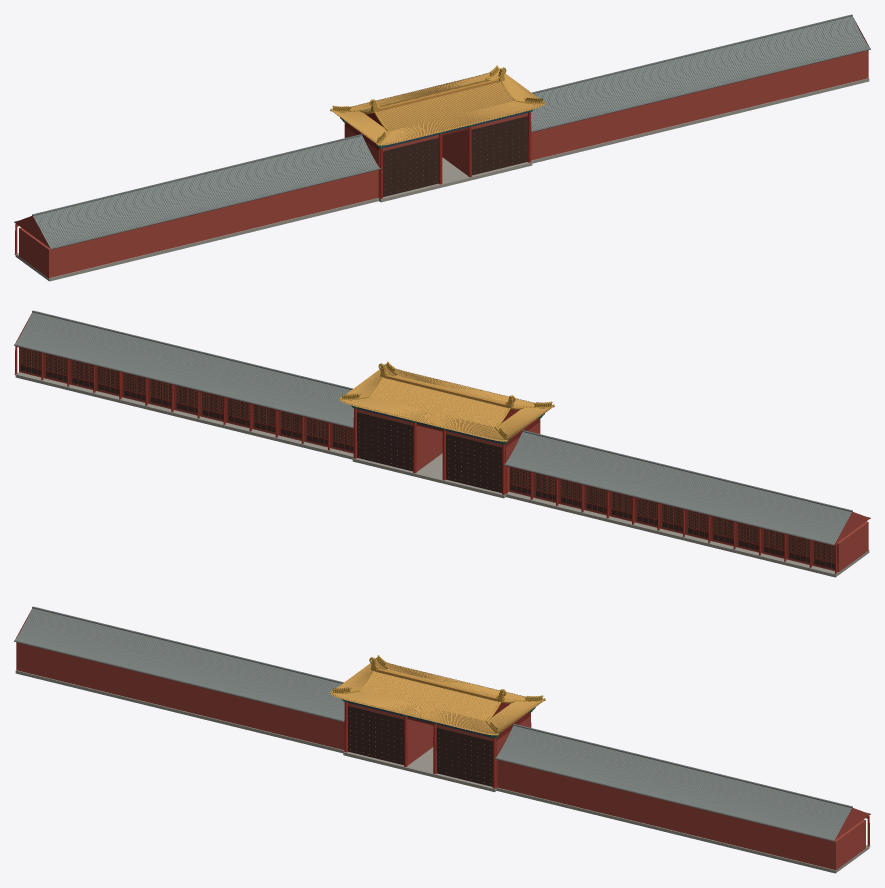
Rendered from axis-se-detail.glb.
The picture shows the model from 3 angles, top to bottom: view 1: azimuth 30°, elevation 25°; view 2: azimuth 150°, elevation 25°; view 3: azimuth 330°, elevation 25°; orthographic projection.
Parts seen in each view (by area): view 1: axis-se grayRoof.001, axis-se wall.001, axis-se grayTile.001, axis-se tile.001, axis-se wood.001, axis-se stone.001, axis-se grayRidge.001, axis-se roof.001, axis-se red.001, axis-se gold.001; view 2: axis-se grayRoof.001, axis-se wood.001, axis-se grayTile.001, axis-se lattice, axis-se tile.001, axis-se stone.001, axis-se redDark.001, axis-se wall.001, axis-se red.001, axis-se grayRidge.001, axis-se roof.001, axis-se gold.001; view 3: axis-se grayRoof.001, axis-se wall.001, axis-se grayTile.001, axis-se tile.001, axis-se wood.001, axis-se stone.001, axis-se grayRidge.001, axis-se roof.001, axis-se red.001, axis-se gold.001.
Boxes of the visible parts, x1,y1,x2,y2 form: axis-se grayRoof.001: (33,16,869,248); axis-se wall.001: (15,18,869,277); axis-se grayTile.001: (15,16,869,247); axis-se tile.001: (330,69,545,145); axis-se wood.001: (383,116,527,196); axis-se stone.001: (14,78,869,281); axis-se grayRidge.001: (14,14,870,249); axis-se roof.001: (376,79,508,140); axis-se red.001: (15,112,531,253); axis-se gold.001: (330,65,545,192); axis-se grayRoof.001: (15,312,851,544); axis-se wood.001: (20,348,834,568); axis-se grayTile.001: (15,312,869,543); axis-se lattice: (20,348,834,562); axis-se tile.001: (339,365,554,441); axis-se stone.001: (14,372,869,577); axis-se redDark.001: (19,348,837,569); axis-se wall.001: (15,314,869,571); axis-se red.001: (15,346,837,573); axis-se grayRidge.001: (14,310,870,545); axis-se roof.001: (376,375,508,436); axis-se gold.001: (339,361,554,488); axis-se grayRoof.001: (15,608,851,840); axis-se wall.001: (15,610,869,869); axis-se grayTile.001: (15,608,869,839); axis-se tile.001: (330,659,545,735); axis-se wood.001: (348,706,492,786); axis-se stone.001: (15,670,870,873); axis-se grayRidge.001: (14,606,870,841); axis-se roof.001: (366,669,499,729); axis-se red.001: (344,702,869,845); axis-se gold.001: (330,655,545,783).
Size of the model in its own units: 1.29 by 0.1297 by 0.1301.
